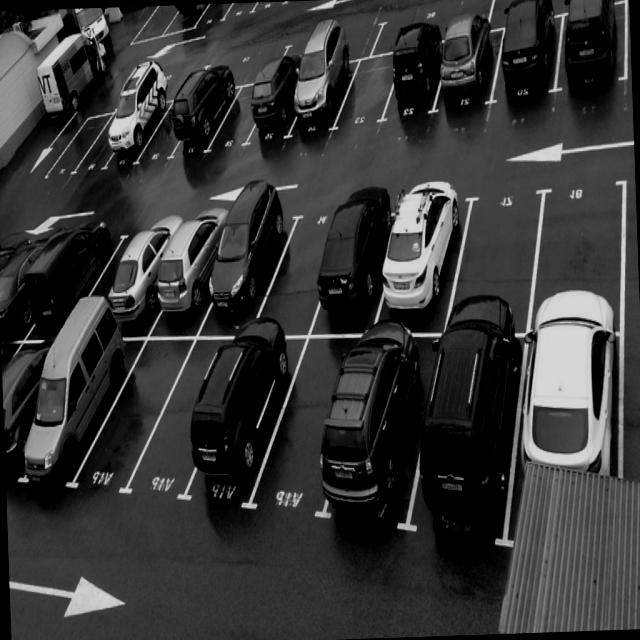car: (510, 326, 634, 534), (411, 336, 528, 536), (332, 326, 442, 528), (20, 308, 124, 486), (199, 333, 289, 514), (383, 196, 461, 330), (318, 192, 394, 322), (213, 205, 287, 324), (160, 197, 226, 329), (30, 214, 111, 318), (0, 316, 50, 476), (493, 13, 563, 112), (560, 10, 632, 104), (436, 22, 502, 122), (116, 212, 176, 313), (386, 32, 444, 132), (0, 214, 48, 334), (177, 74, 240, 160), (291, 56, 354, 140), (250, 61, 306, 146), (112, 83, 162, 169)
free: (260, 330, 360, 520), (85, 319, 189, 501), (142, 323, 236, 506), (532, 170, 630, 316), (454, 191, 534, 341), (260, 201, 336, 341), (78, 212, 146, 316), (212, 72, 266, 165), (75, 96, 133, 182), (46, 106, 104, 192), (340, 54, 398, 130), (150, 77, 196, 163)
